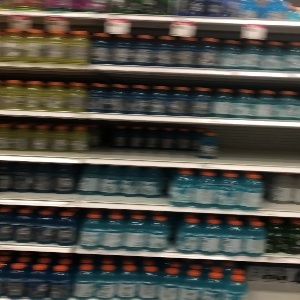void: (88, 125, 300, 157), (250, 263, 300, 298)
